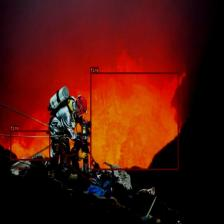fire: (90, 72, 179, 170), (10, 130, 50, 160)
